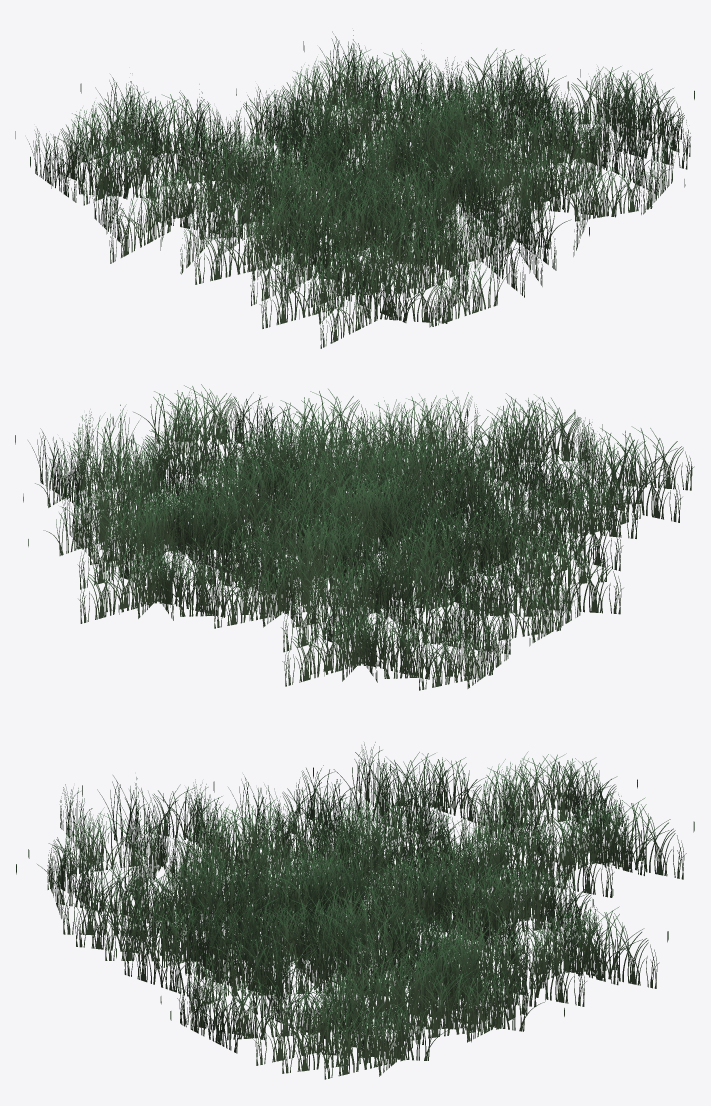
File: GrassStack.fbx
3 views of the same model, one above another, from view 1: azimuth 30°, elevation 25°; view 2: azimuth 150°, elevation 25°; view 3: azimuth 270°, elevation 25° (orthographic). The views are drawn at different scales.
Parts seen in each view (by area): view 1: SM_Grass_Dynamic_01.mo.004, SM_Grass_Dynamic_01.mo.003, SM_Grass_Dynamic_01.mo.005, SM_Grass_Dynamic_01.mo.001, SM_Grass_Dynamic_01.mo, SM_Grass_Dynamic_01.mo.002; view 2: SM_Grass_Dynamic_01.mo.003, SM_Grass_Dynamic_01.mo.002, SM_Grass_Dynamic_01.mo.004, SM_Grass_Dynamic_01.mo.001, SM_Grass_Dynamic_01.mo.005, SM_Grass_Dynamic_01.mo; view 3: SM_Grass_Dynamic_01.mo.005, SM_Grass_Dynamic_01.mo.003, SM_Grass_Dynamic_01.mo.002, SM_Grass_Dynamic_01.mo.004, SM_Grass_Dynamic_01.mo.001, SM_Grass_Dynamic_01.mo.
Part boxes in pixels (x1,y1,x2,y2): SM_Grass_Dynamic_01.mo.004: (242,141,589,348); SM_Grass_Dynamic_01.mo.003: (15,73,365,274); SM_Grass_Dynamic_01.mo.005: (355,56,694,256); SM_Grass_Dynamic_01.mo.001: (186,101,532,305); SM_Grass_Dynamic_01.mo: (218,76,590,255); SM_Grass_Dynamic_01.mo.002: (236,30,587,219); SM_Grass_Dynamic_01.mo.003: (231,509,623,690); SM_Grass_Dynamic_01.mo.002: (28,447,417,628); SM_Grass_Dynamic_01.mo.004: (298,391,694,572); SM_Grass_Dynamic_01.mo.001: (242,435,638,615); SM_Grass_Dynamic_01.mo.005: (15,384,396,572); SM_Grass_Dynamic_01.mo: (122,415,524,596); SM_Grass_Dynamic_01.mo.005: (122,892,539,1079); SM_Grass_Dynamic_01.mo.003: (296,742,694,932); SM_Grass_Dynamic_01.mo.002: (271,849,668,1042); SM_Grass_Dynamic_01.mo.004: (16,775,402,969); SM_Grass_Dynamic_01.mo.001: (137,774,518,965); SM_Grass_Dynamic_01.mo: (185,806,544,1012).
Bounding box in the file's own units: 448 × 50.94 × 420.
Materials: 6 (6 with a texture image).
